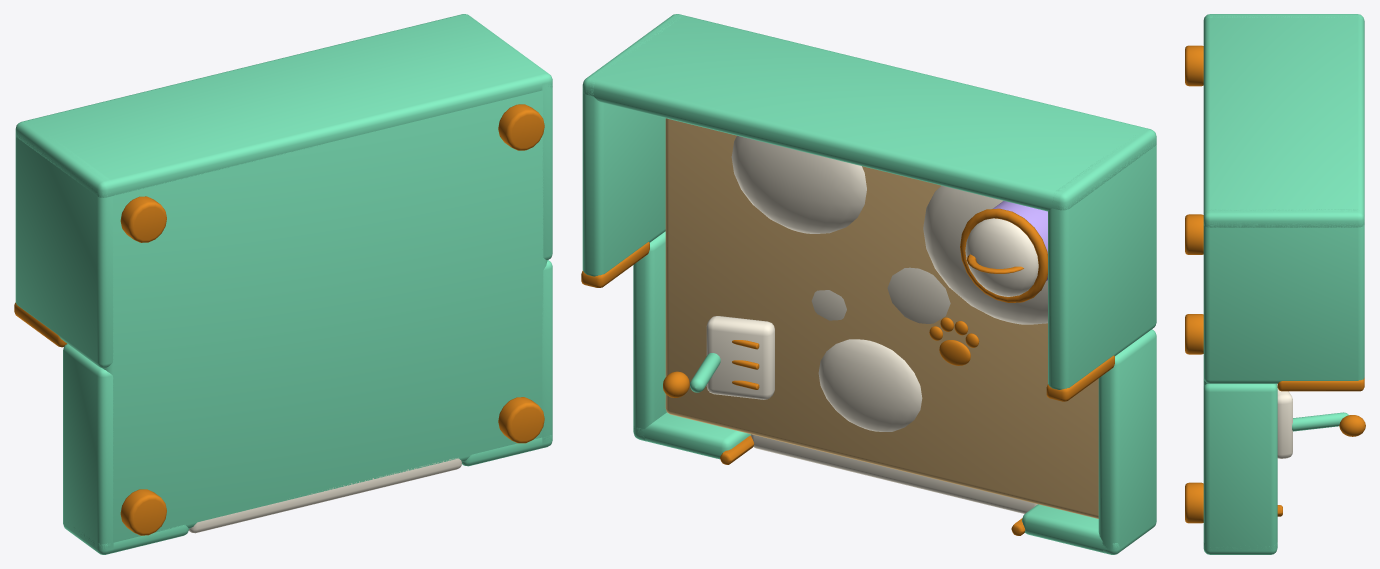
Rendered from BathroomLitterBox_Premium.fbx.
3 renders of one model, left to right at view 1: azimuth 30°, elevation 25°; view 2: azimuth 150°, elevation 25°; view 3: azimuth 270°, elevation 25°, orthographic. The views are drawn at different scales.
Parts seen in each view (by area): view 1: BathroomLitterBox; view 2: BathroomLitterBox; view 3: BathroomLitterBox.
Part boxes in pixels (<box>): BathroomLitterBox: <box>14,14,552,554</box>; BathroomLitterBox: <box>581,14,1156,554</box>; BathroomLitterBox: <box>1185,14,1365,554</box>.
Size of the model in its own units: 1.3 by 1.02 by 0.489.
